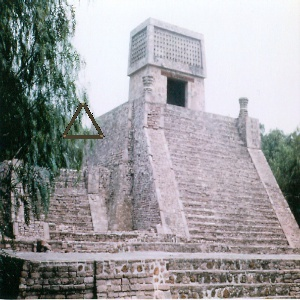triangle: (59, 100, 105, 142)
